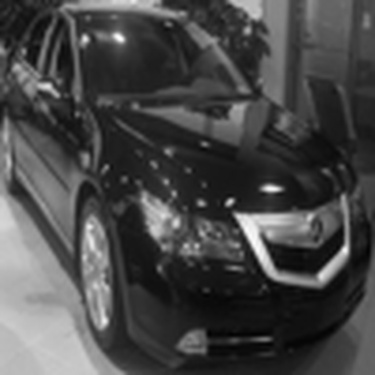car: (3, 5, 369, 369)
